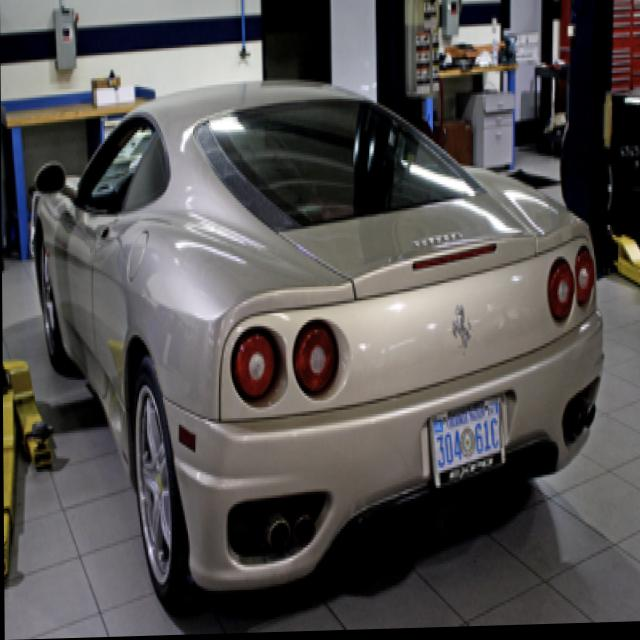licence: (430, 418, 504, 468)
